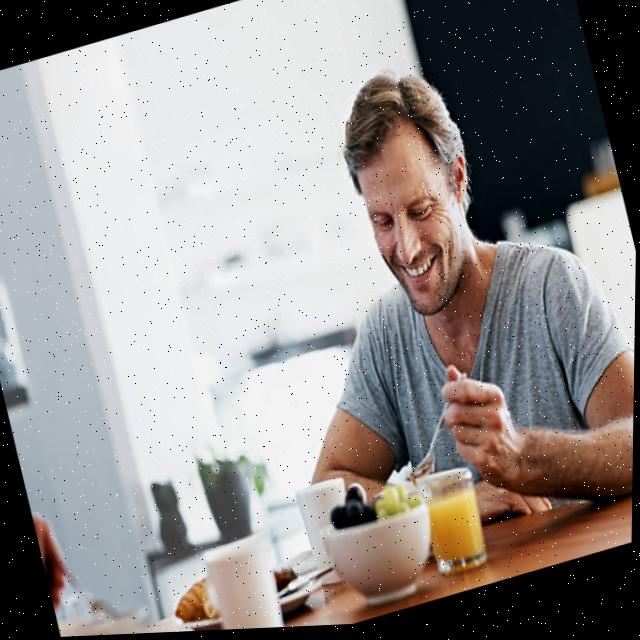eating-person: (185, 12, 640, 627)
